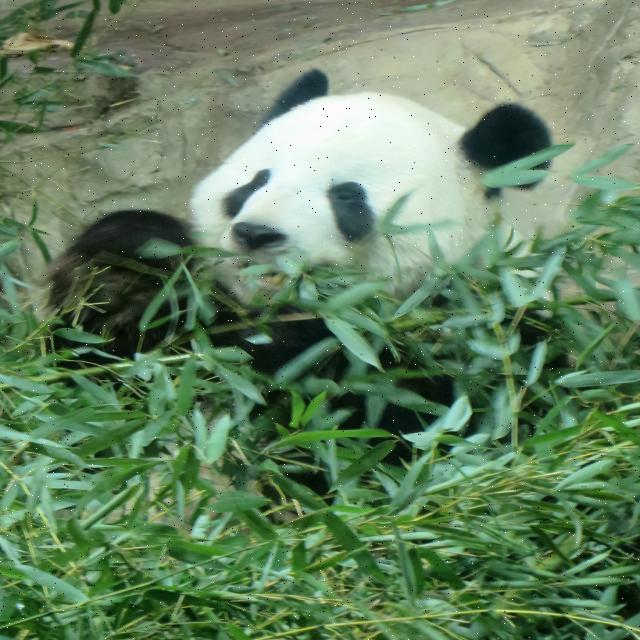panda: (37, 68, 569, 510)
